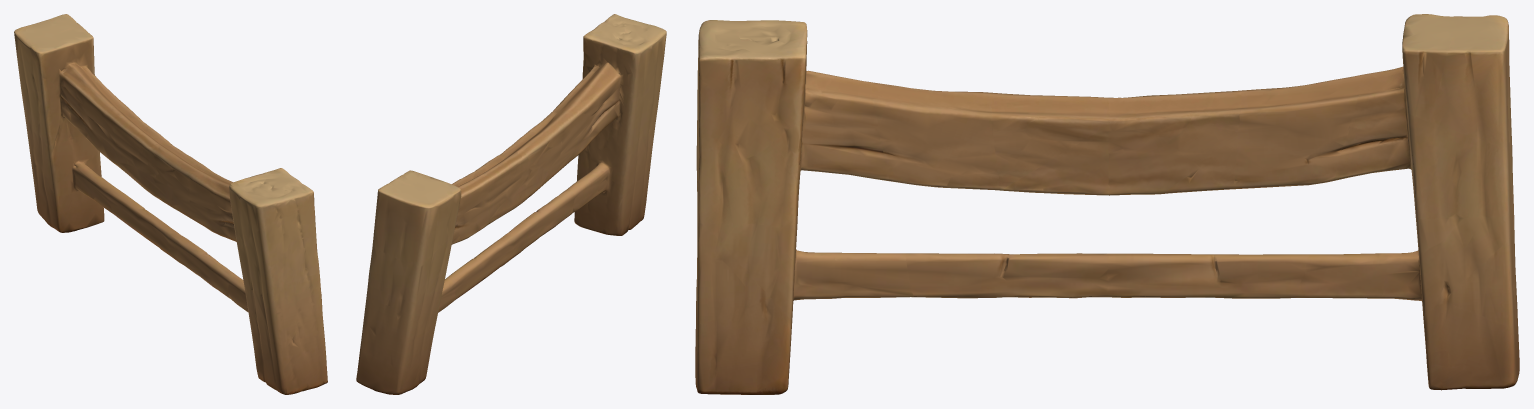
The model's file is fence.glb.
3 renders of one model, left to right at view 1: azimuth 30°, elevation 25°; view 2: azimuth 150°, elevation 25°; view 3: azimuth 270°, elevation 25°, orthographic. The views are drawn at different scales.
Parts seen in each view (by area): view 1: tripo_node_c33cc13e-963d-4680-a7bf-a52347f8b5dc; view 2: tripo_node_c33cc13e-963d-4680-a7bf-a52347f8b5dc; view 3: tripo_node_c33cc13e-963d-4680-a7bf-a52347f8b5dc.
Boxes of the visible parts, bbox=[...] form: tripo_node_c33cc13e-963d-4680-a7bf-a52347f8b5dc: bbox=[14, 14, 327, 394]; tripo_node_c33cc13e-963d-4680-a7bf-a52347f8b5dc: bbox=[356, 14, 666, 394]; tripo_node_c33cc13e-963d-4680-a7bf-a52347f8b5dc: bbox=[695, 14, 1519, 394].
Size of the model in its own units: 0.1788 by 0.4443 by 0.9999.
Materials: 1 (1 with a texture image).
